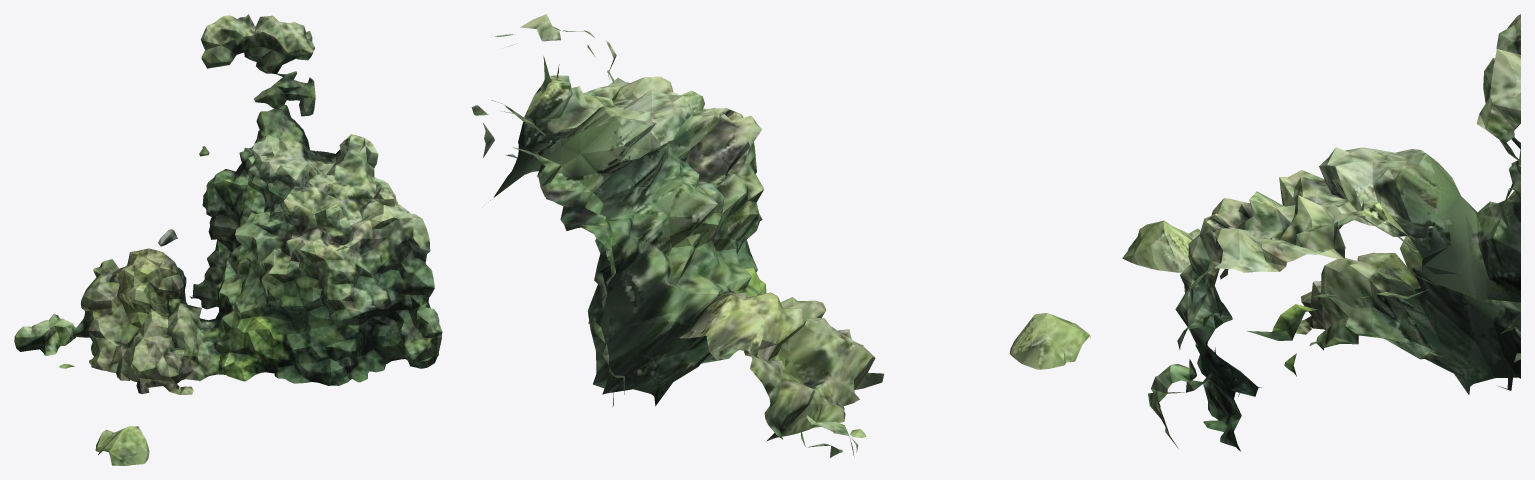
3 renders of one model, left to right at view 1: azimuth 30°, elevation 25°; view 2: azimuth 150°, elevation 25°; view 3: azimuth 270°, elevation 25°, orthographic. The views are drawn at different scales.
Bounding box in the file's own units: 26.11 × 21.16 × 19.56.
Materials: 3 (3 with a texture image).
